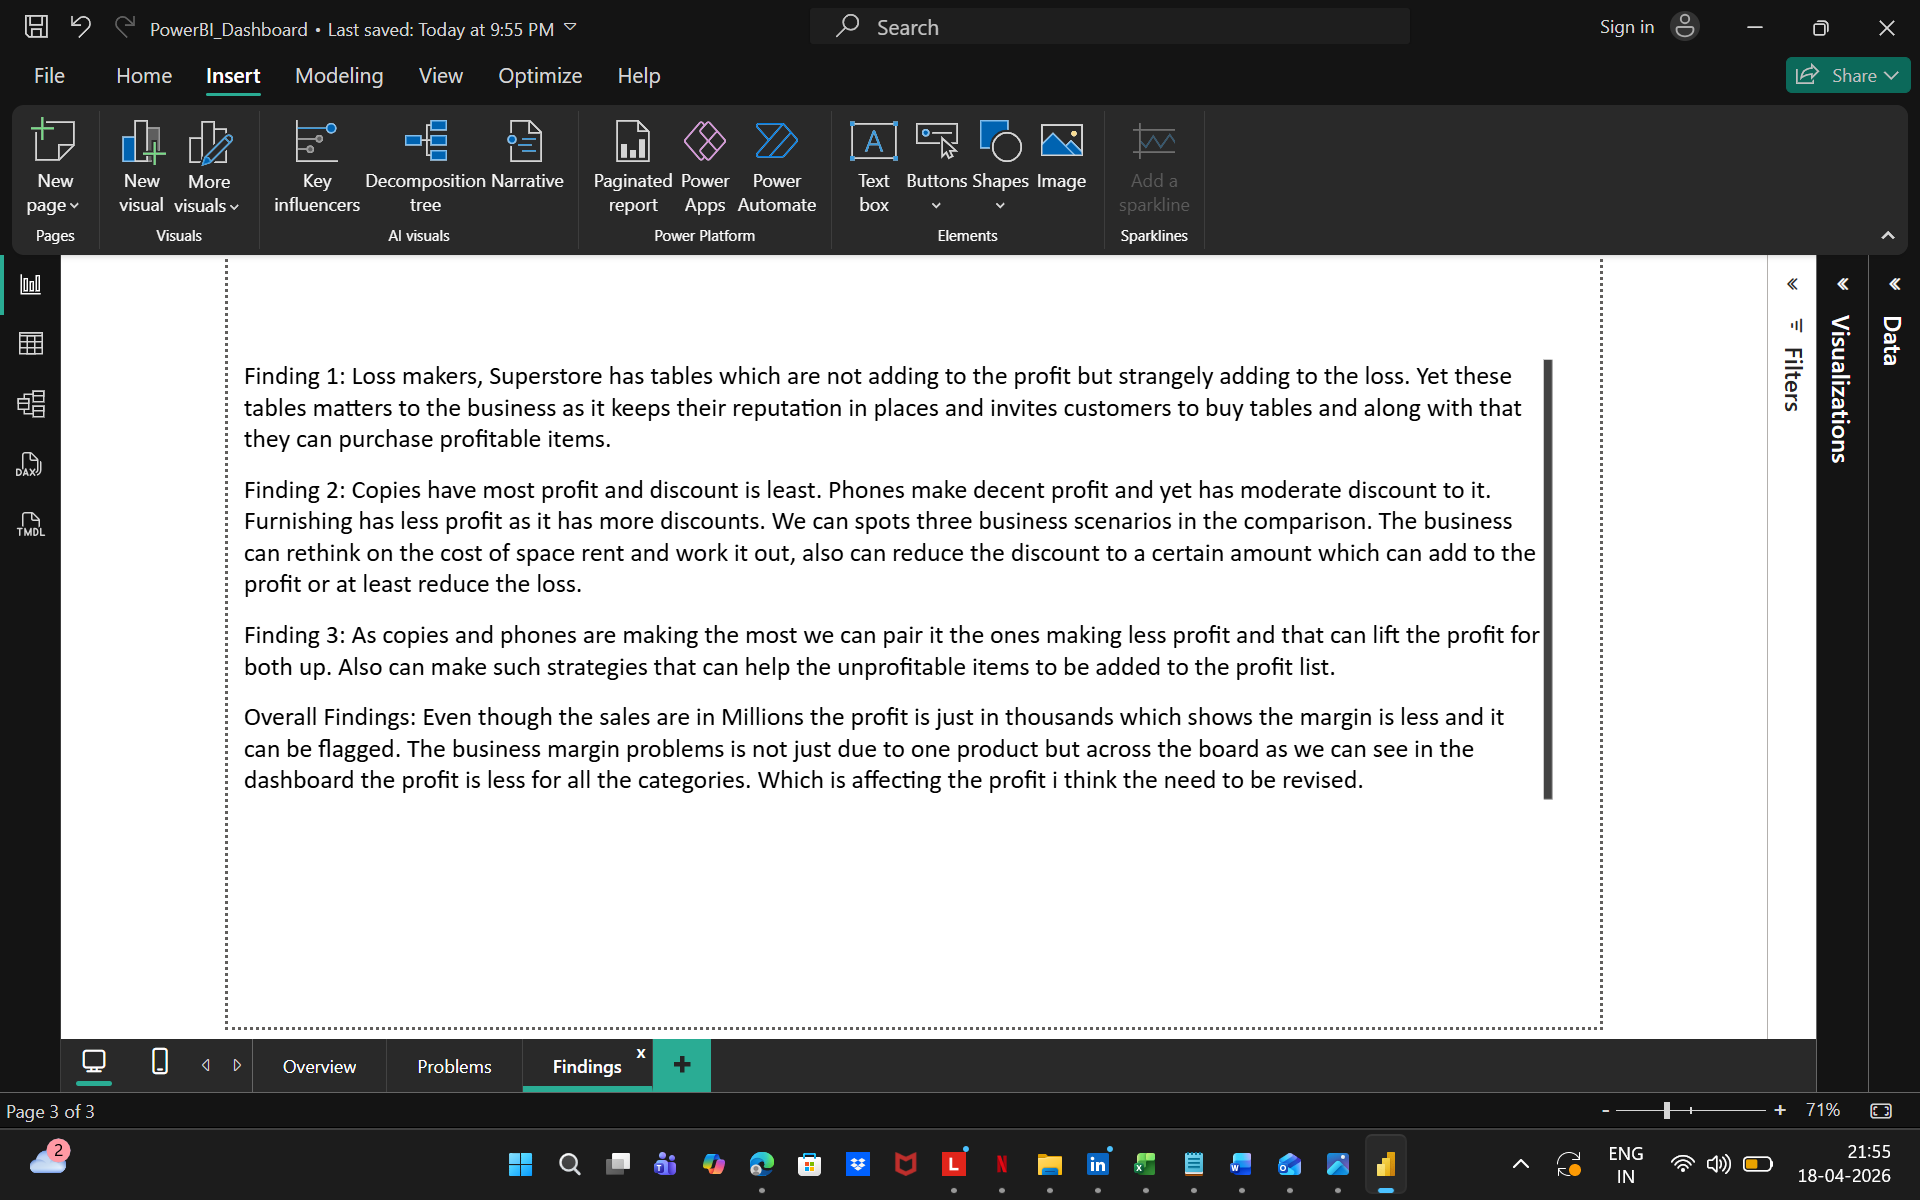

This screenshot's page, from the dashboard's own definition file:
{"tool":"powerbi","page":{"name":"Findings ","canvas":[1280,720],"ordinal":2},"visuals":[{"type":"textbox","box":[9.4,92.6,1230.2,427.1],"z":0}]}

Visuals, with their boxes on the page's 1280x720 design canvas (x1, y1, x2, y2). These are canvas units, not pixel positions in the 1920x1200 screenshot, which may show the page scaled, cropped or inside an application window:
textbox: 9/93/1240/520
